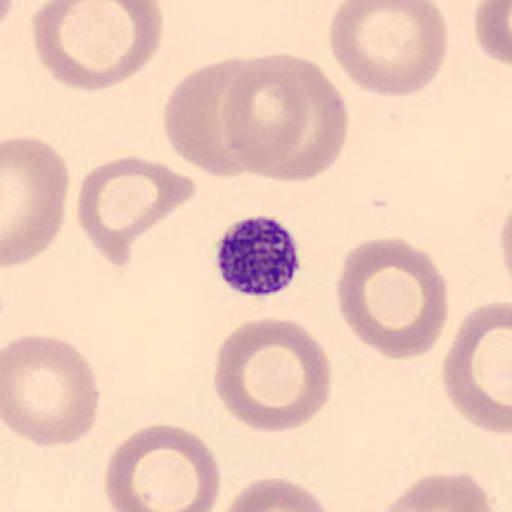Platelet: (214, 212, 304, 298)
RBC: (220, 52, 349, 182), (335, 235, 450, 362), (75, 154, 199, 268), (213, 318, 333, 434), (31, 0, 164, 93), (162, 55, 260, 179), (220, 52, 312, 182), (328, 1, 450, 98), (255, 60, 349, 183), (1, 334, 101, 448), (103, 421, 222, 512), (442, 298, 512, 436), (2, 134, 71, 268), (373, 471, 496, 512), (214, 475, 336, 512), (473, 0, 512, 67), (0, 0, 18, 34)
